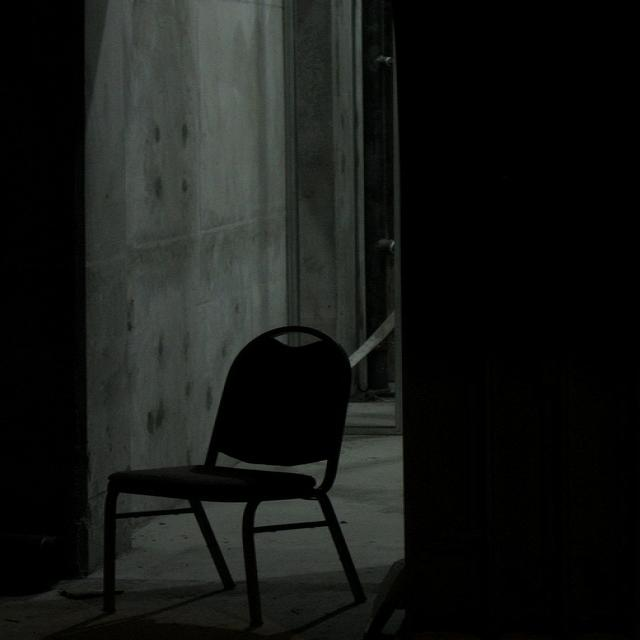chair: (107, 305, 375, 640)
